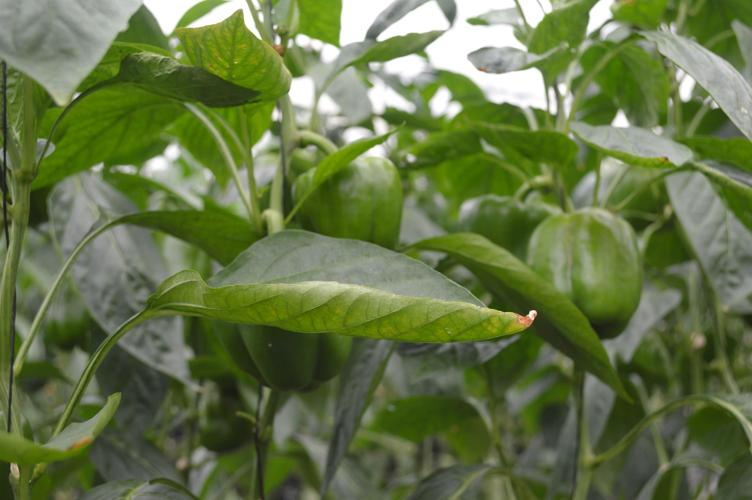BellPepper: (524, 206, 641, 338), (290, 154, 404, 250), (207, 321, 350, 392), (457, 194, 555, 289)
